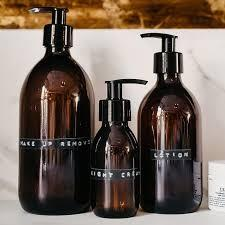glass: (16, 45, 97, 215), (140, 73, 197, 211), (91, 122, 140, 221)
